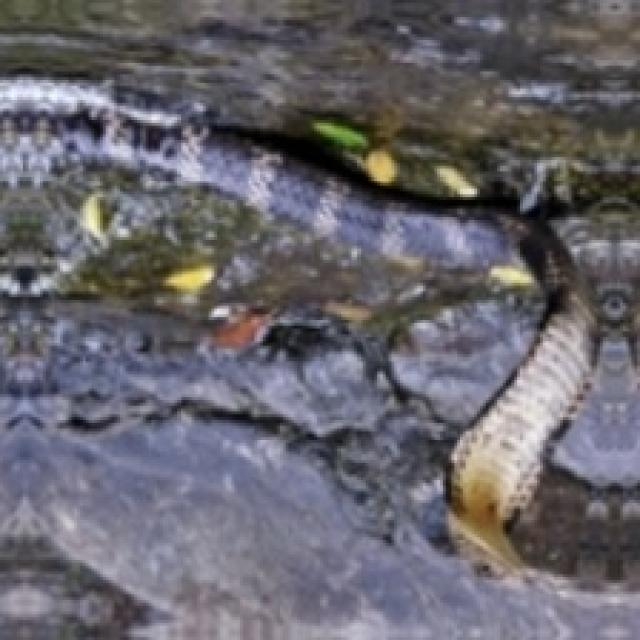king cobra: (0, 77, 637, 637)
